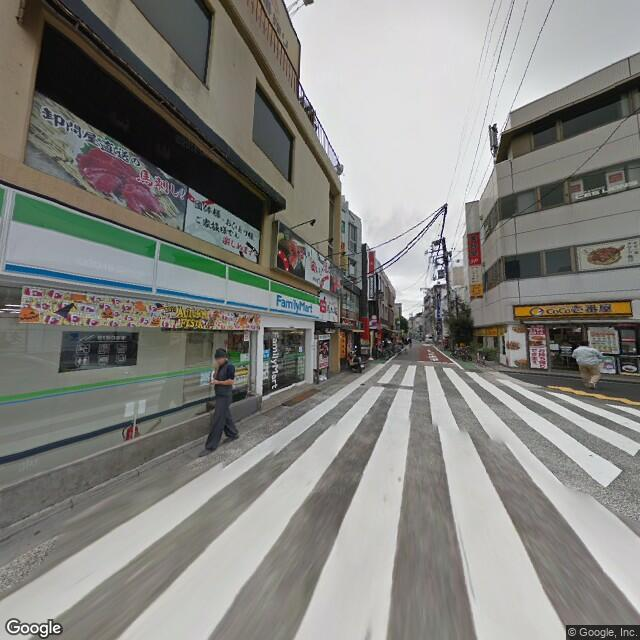family_mart: (3, 184, 321, 323)
